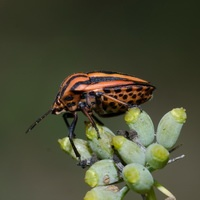insect: (26, 71, 154, 157)
